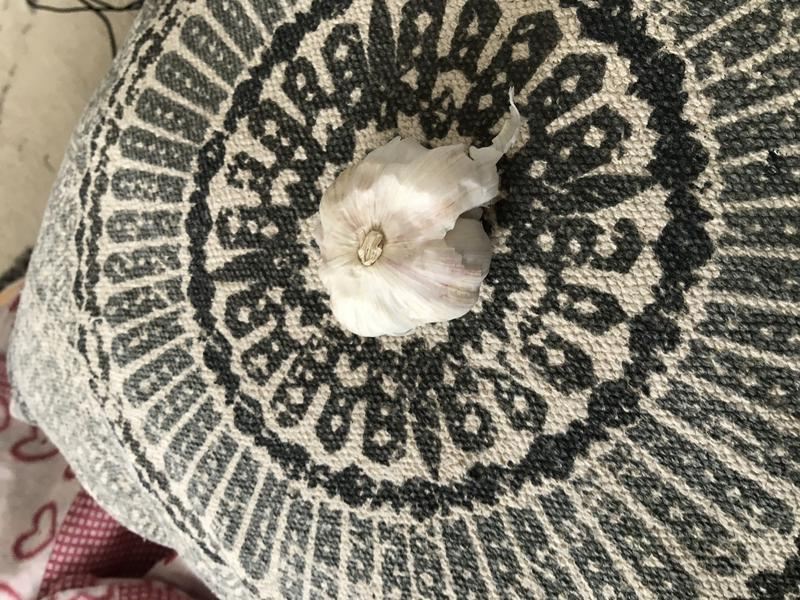garlic: (300, 119, 500, 345)
